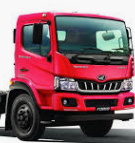truck: (1, 9, 134, 141)
